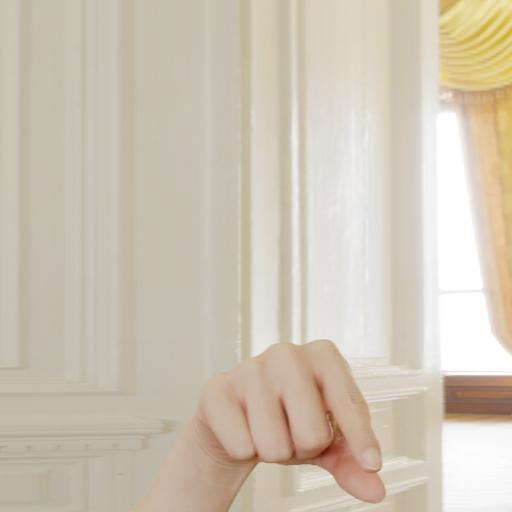Q: (154, 323, 398, 512)
